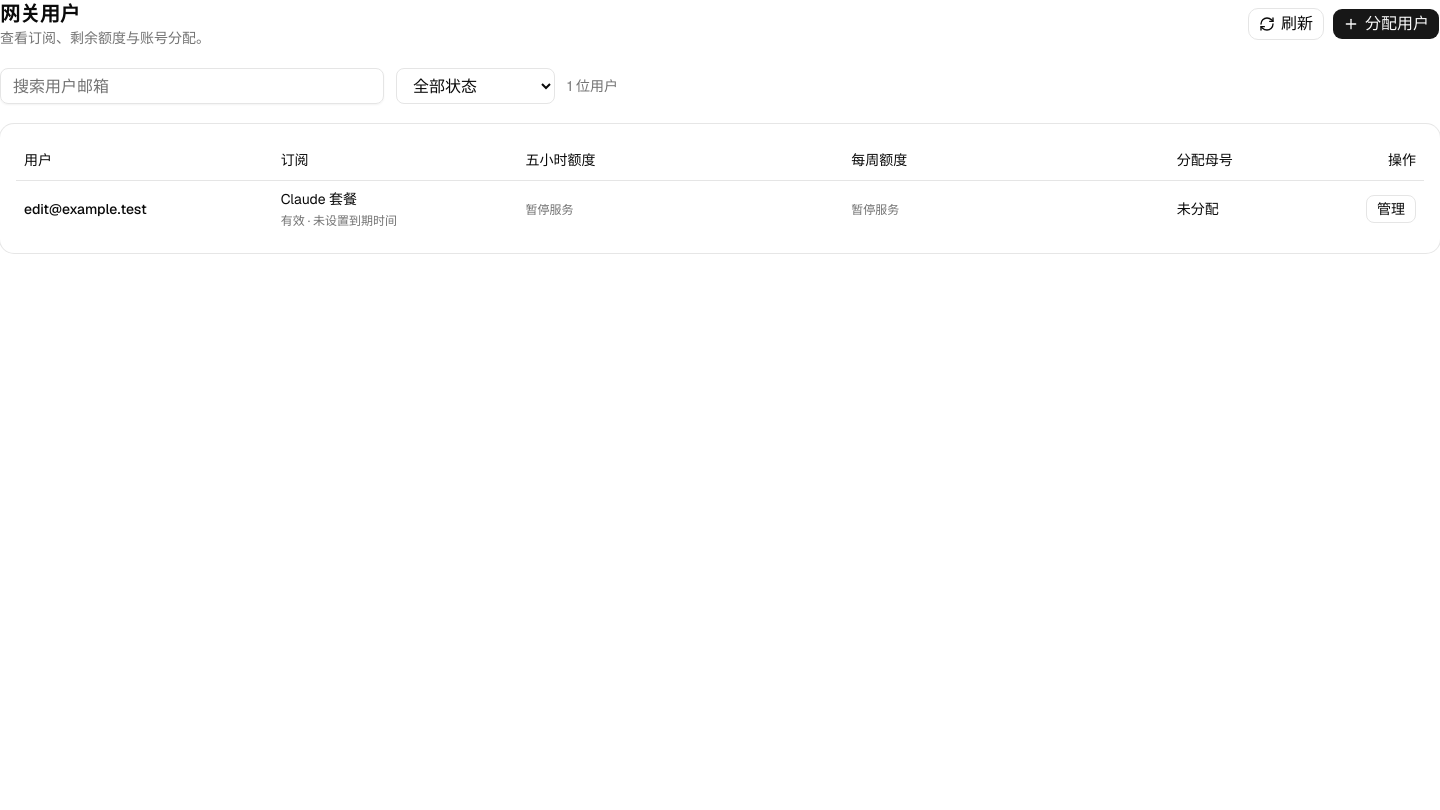
Test case: saves independent overrides and can restore the plan without resetting usage
Later steps or results of the test are not shown.
Click the button "管理": (1391, 208) [1366,194,1416,222]
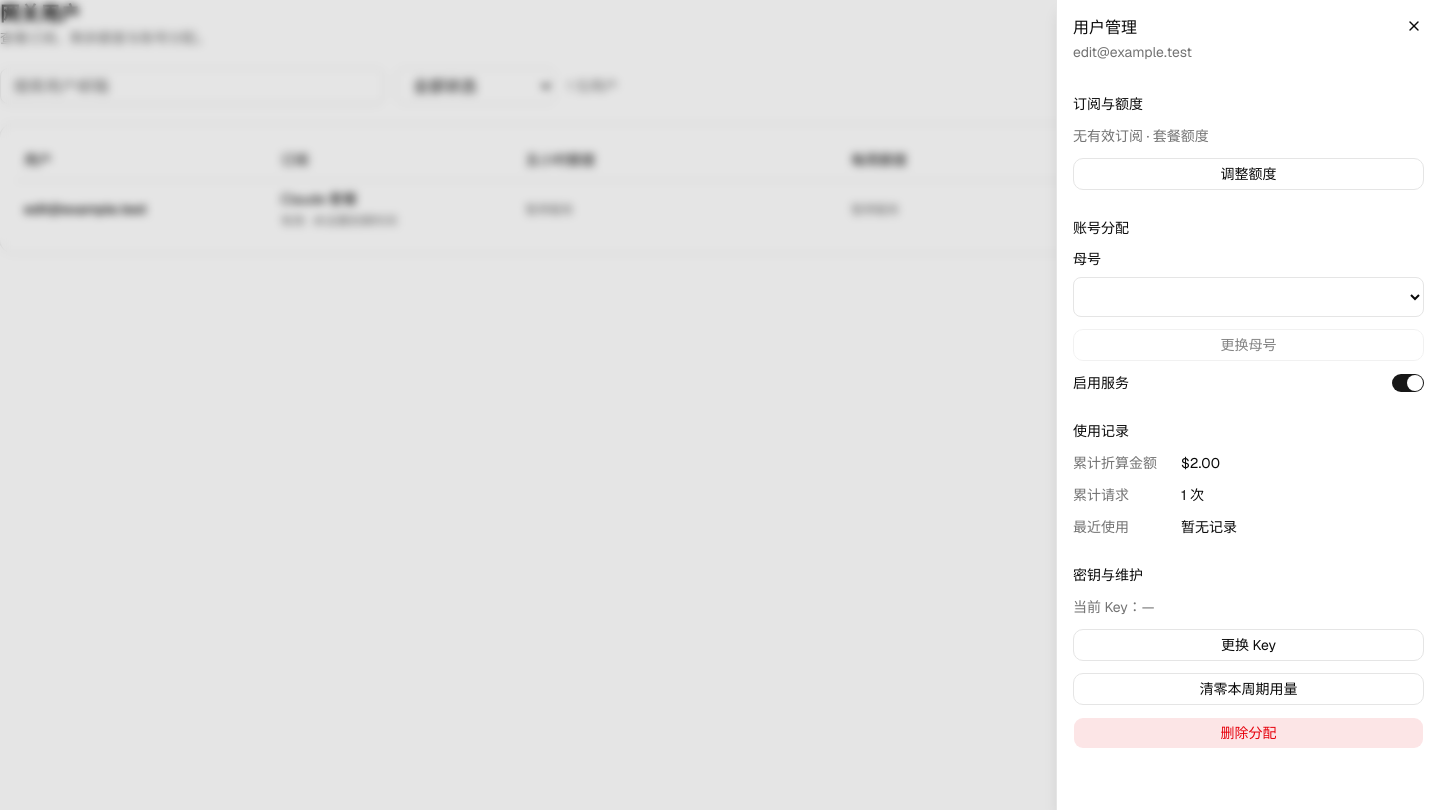
Click the button "调整额度": (1248, 174) [1073,158,1424,190]
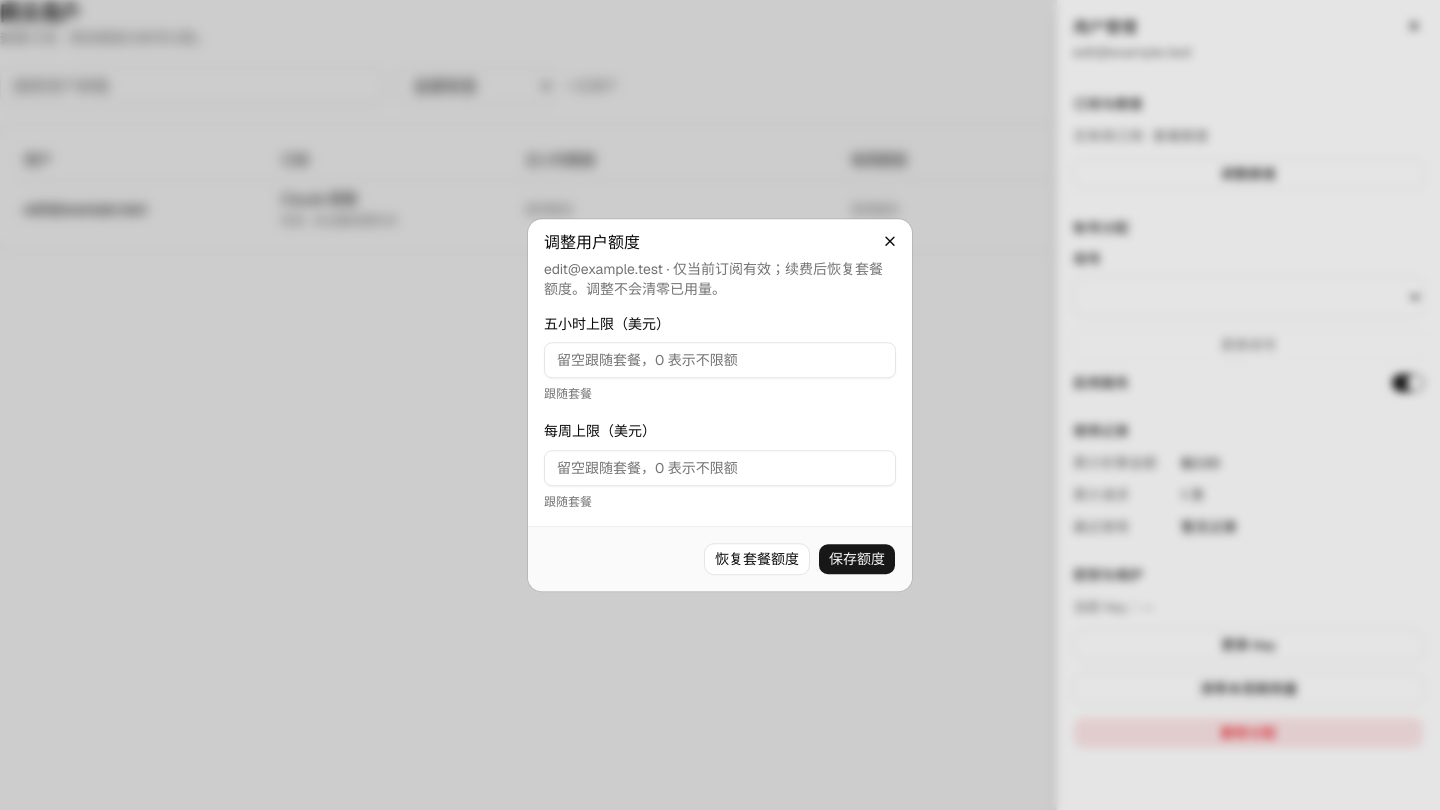
In the number field labelled "五小时上限（美元）": (720, 360) [544,342,896,378], type "0"
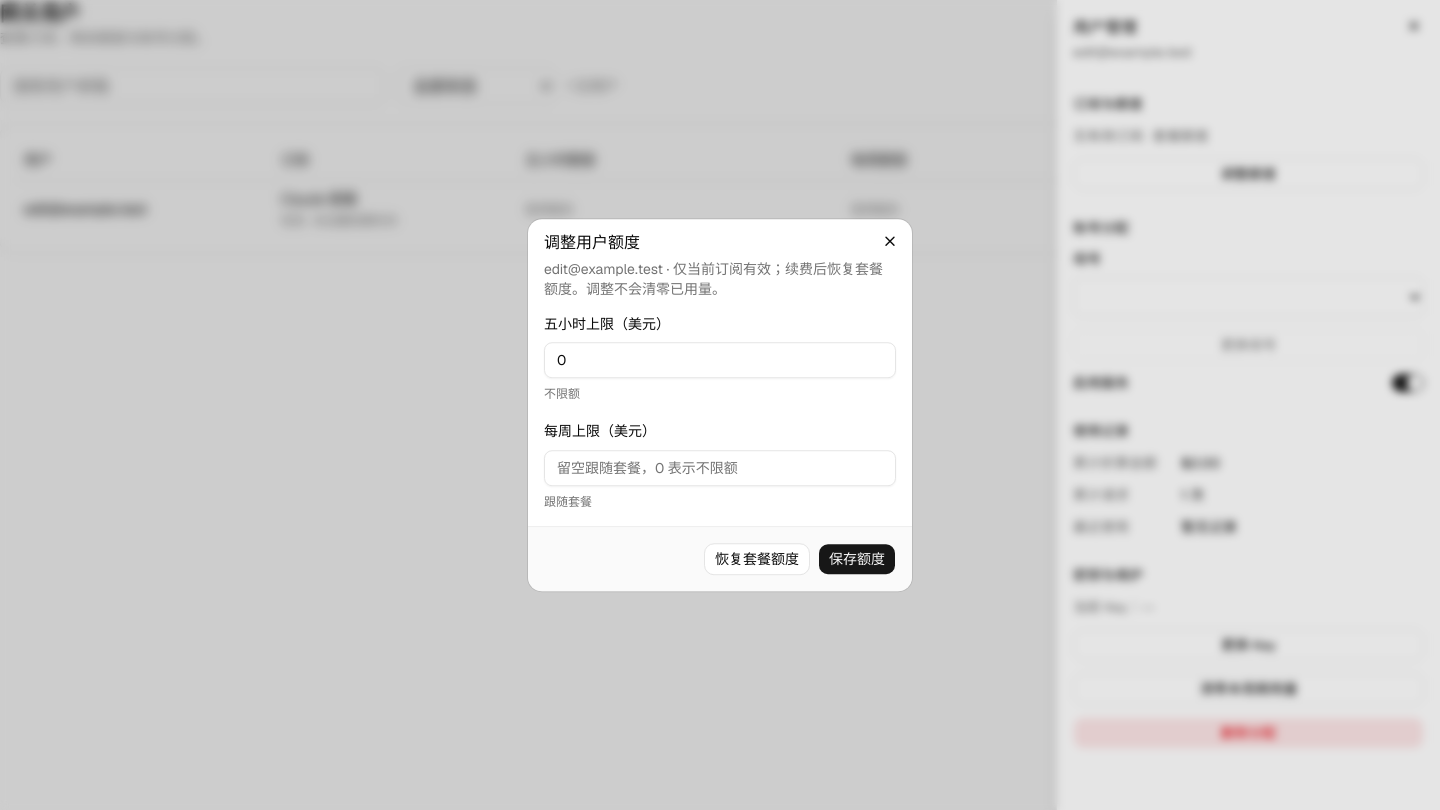
Click the button "保存额度": (857, 559) [818,543,896,575]
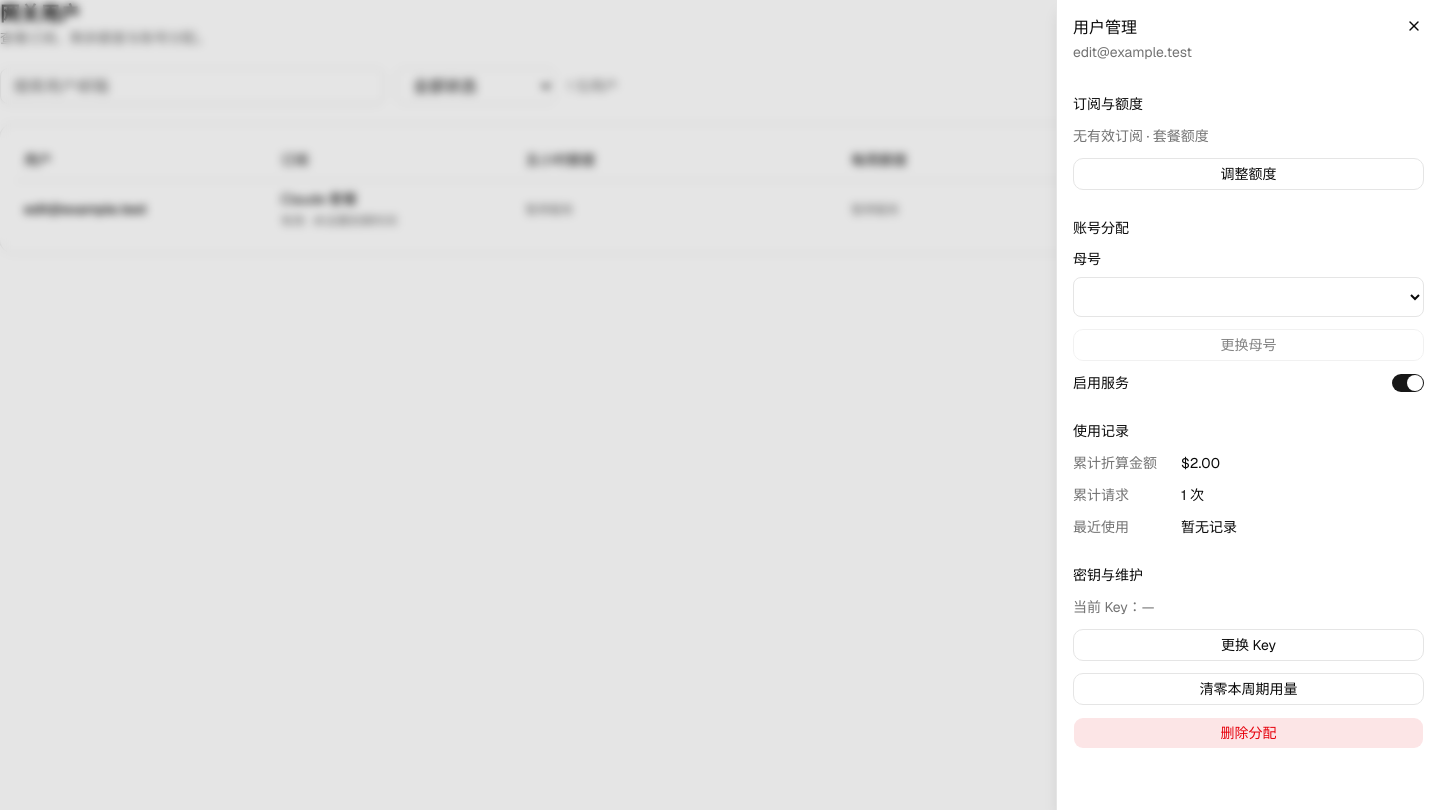
Now the heading "调整用户额度" is gone
